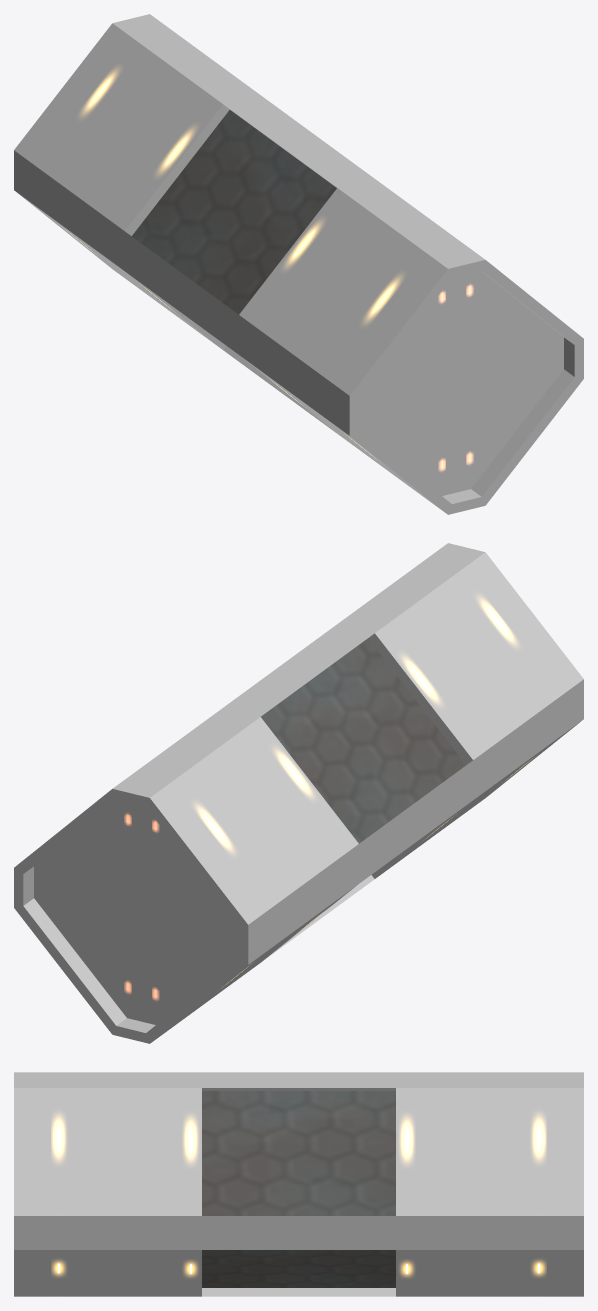
The model's file is Station_Piece 3.fbx.
3 renders of one model, top to bottom at view 1: azimuth 30°, elevation 25°; view 2: azimuth 150°, elevation 25°; view 3: azimuth 270°, elevation 25°, orthographic. The views are drawn at different scales.
Visible parts, largest first — view 1: Station_pioece 3, glass; view 2: Station_pioece 3, glass; view 3: Station_pioece 3, glass.
Boxes of the visible parts, left/top/right/bottom form: Station_pioece 3: left=14, top=14, right=583, bottom=514; glass: left=132, top=110, right=336, bottom=314; Station_pioece 3: left=14, top=543, right=583, bottom=1043; glass: left=261, top=639, right=465, bottom=843; Station_pioece 3: left=14, top=1072, right=583, bottom=1296; glass: left=202, top=1091, right=395, bottom=1287.
Size of the model in its own units: 10.59 by 10.62 by 26.28.
